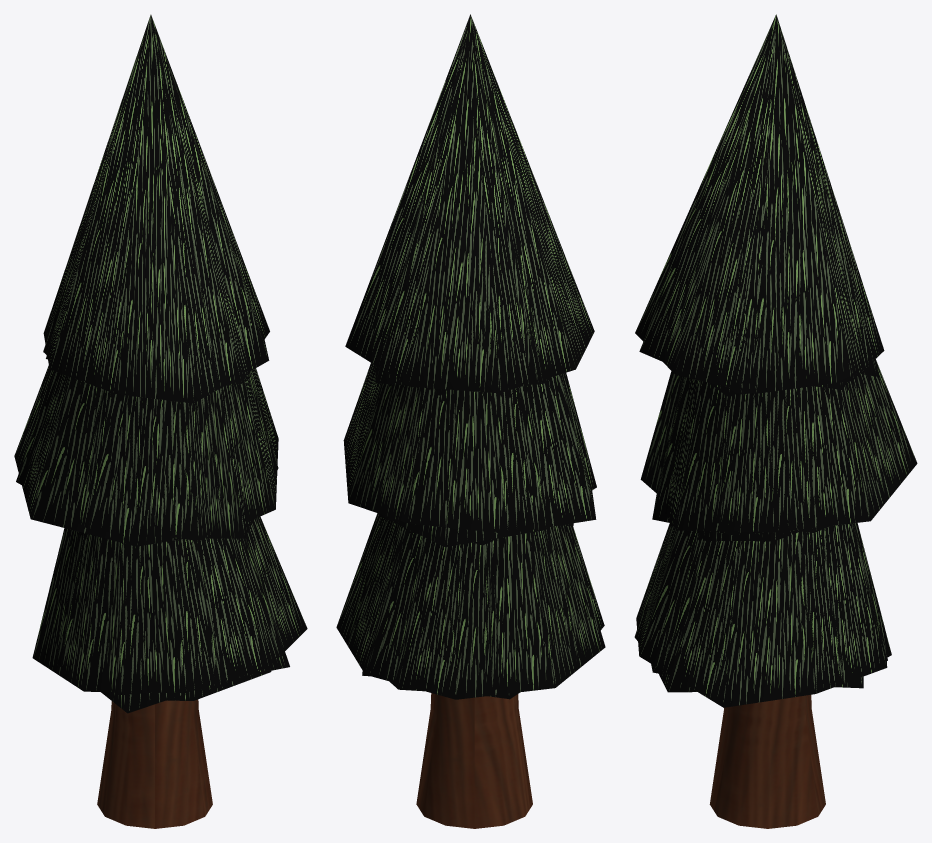
The model's file is ConiferousTree.fbx.
The picture shows the model from 3 angles, left to right: view 1: azimuth 30°, elevation 25°; view 2: azimuth 150°, elevation 25°; view 3: azimuth 270°, elevation 25°; orthographic projection.
Visible parts, largest first — view 1: Circle.006; view 2: Circle.006; view 3: Circle.006.
Boxes of the visible parts, x1=… form: Circle.006: x1=14, y1=14, x2=307, y2=828; Circle.006: x1=336, y1=14, x2=605, y2=828; Circle.006: x1=634, y1=14, x2=917, y2=828.
Size of the model in its own units: 210 by 624 by 203.
